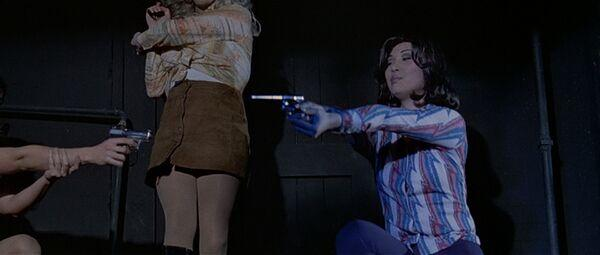Gun: (251, 93, 306, 115), (107, 125, 154, 150)
